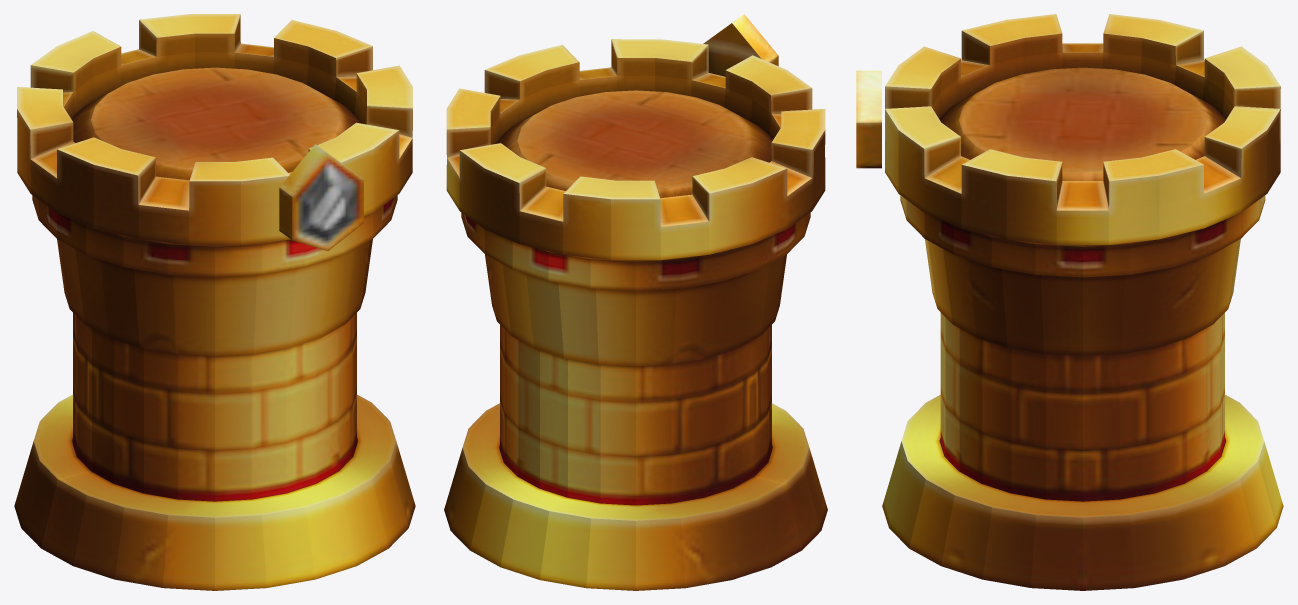
The model's file is king_ALL_01.FBX.
3 renders of one model, left to right at view 1: azimuth 30°, elevation 25°; view 2: azimuth 150°, elevation 25°; view 3: azimuth 270°, elevation 25°, orthographic. The views are drawn at different scales.
Parts seen in each view (by area): view 1: king_color; view 2: king_color; view 3: king_color.
Part boxes in pixels (x1,y1,x2,y2): king_color: [14, 14, 415, 590]; king_color: [444, 14, 827, 590]; king_color: [856, 14, 1283, 590].
Bounding box in the file's own units: 14.32 × 17.15 × 15.24.
2 materials, 2 textured.
